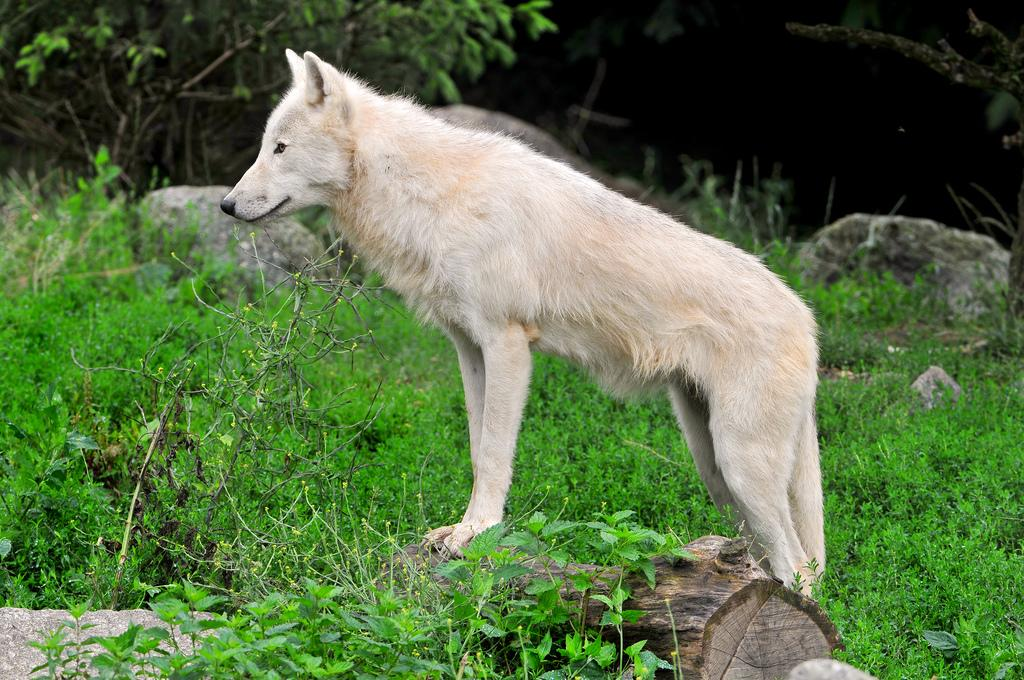Wolf: (221, 51, 827, 592)
